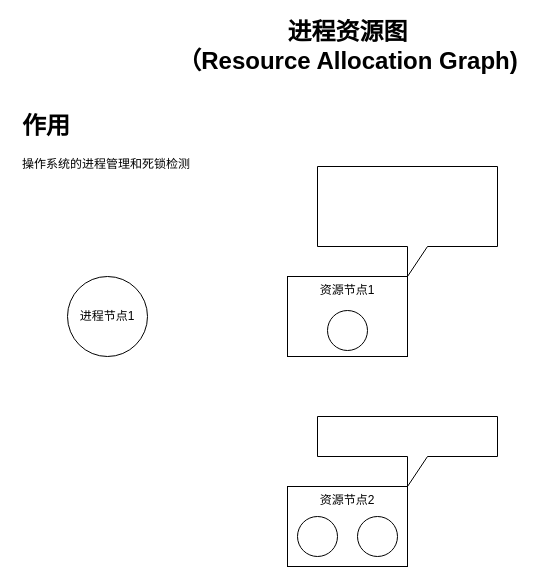
The diagram is 535 pixels wide and 584 high, and some of its shapes have lost their labels. Here are the shapes that lost their labels. From the top down, the centre of each, then its label:
At pixel 407 221: "临界资源/单实例资源 同一时间内容只能由一个任务单独使用，使用时需要加锁， 使用完后解锁才能被其他任务使用。 例如，CPU".
At pixel 407 451: "共享资源/多实例资源 例如，寄存器".
